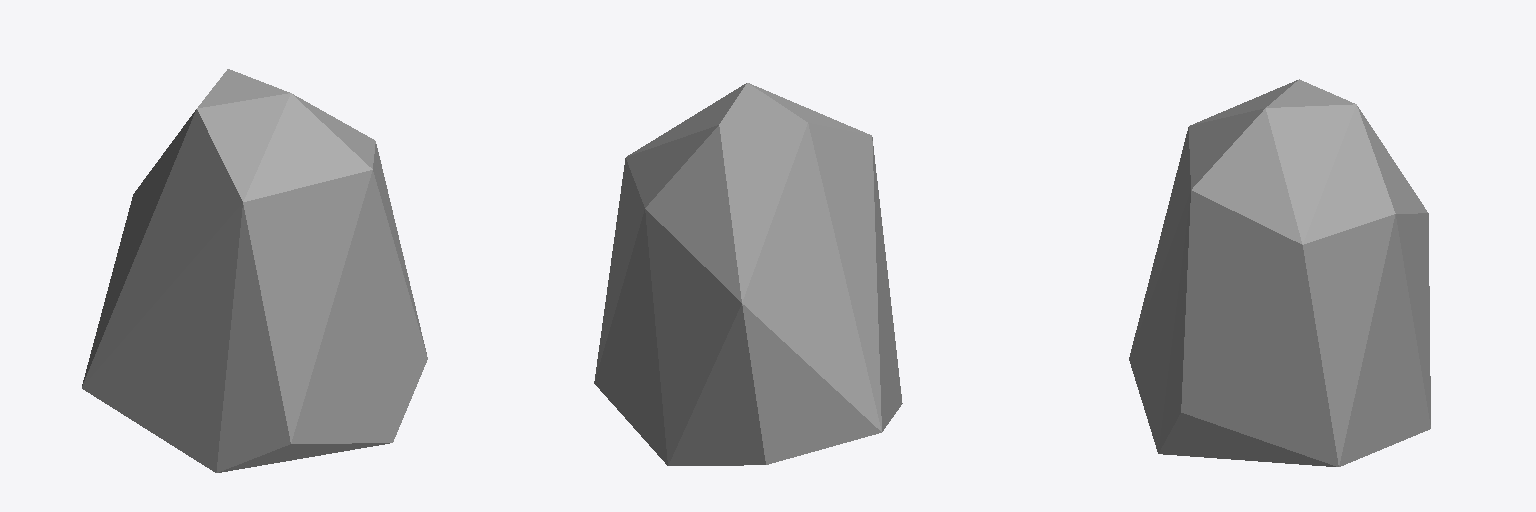
3 renders of one model, left to right at view 1: azimuth 30°, elevation 25°; view 2: azimuth 150°, elevation 25°; view 3: azimuth 270°, elevation 25°, orthographic.
Visible parts, largest first — view 1: NaturePack_Rock4; view 2: NaturePack_Rock4; view 3: NaturePack_Rock4.
Part boxes in pixels (x1,y1,x2,y2): NaturePack_Rock4: (82, 69, 427, 472); NaturePack_Rock4: (594, 83, 902, 465); NaturePack_Rock4: (1129, 79, 1430, 466).
Bounding box in the file's own units: 3.38 × 3.61 × 3.06.
1 materials, 1 textured.